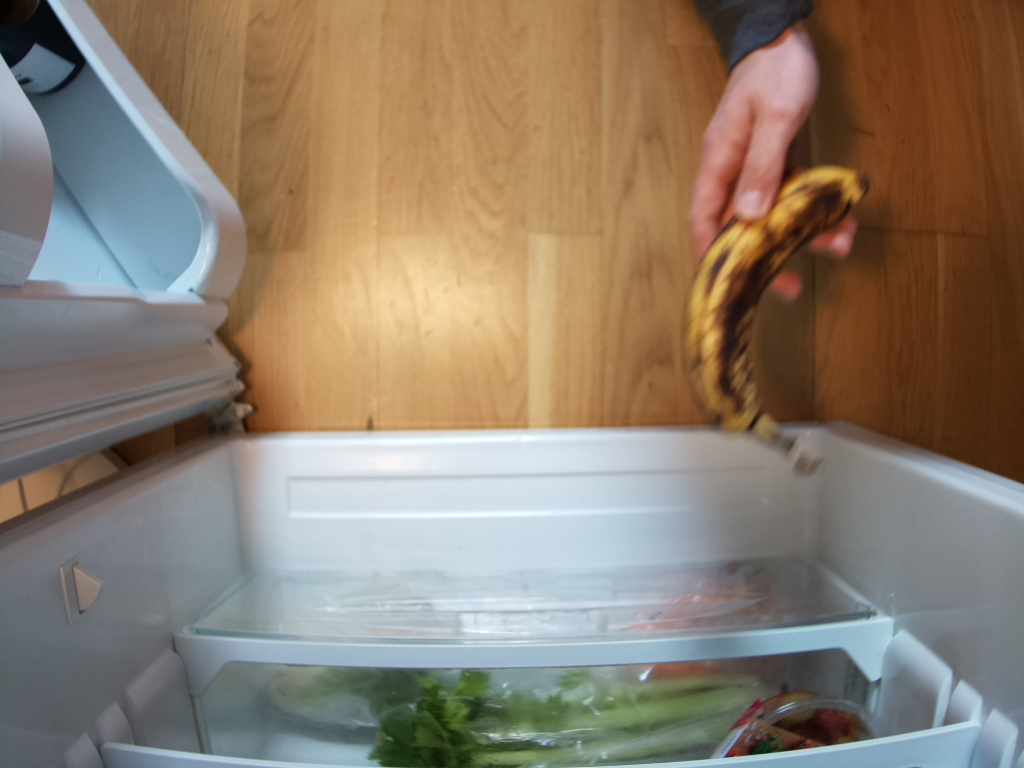banana-overripe: (682, 166, 875, 473)
